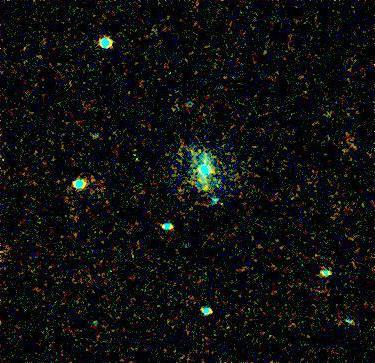star: (187, 172, 217, 202)
